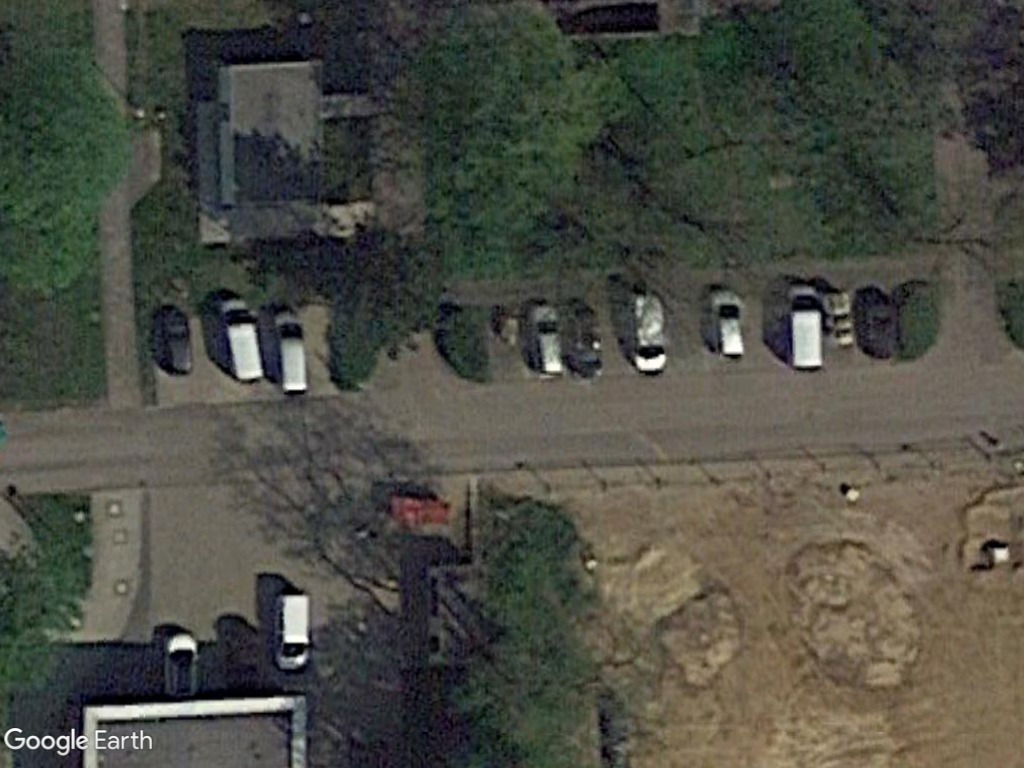car: (705, 283, 751, 365)
truck: (779, 275, 829, 375)
van: (215, 290, 267, 385), (269, 584, 317, 676), (270, 305, 314, 402)
